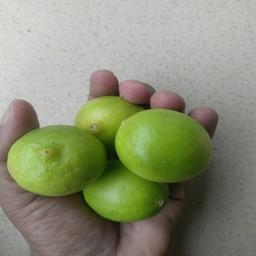Good_lime: (112, 107, 214, 186), (1, 123, 107, 196), (87, 157, 173, 220), (73, 97, 141, 148)
